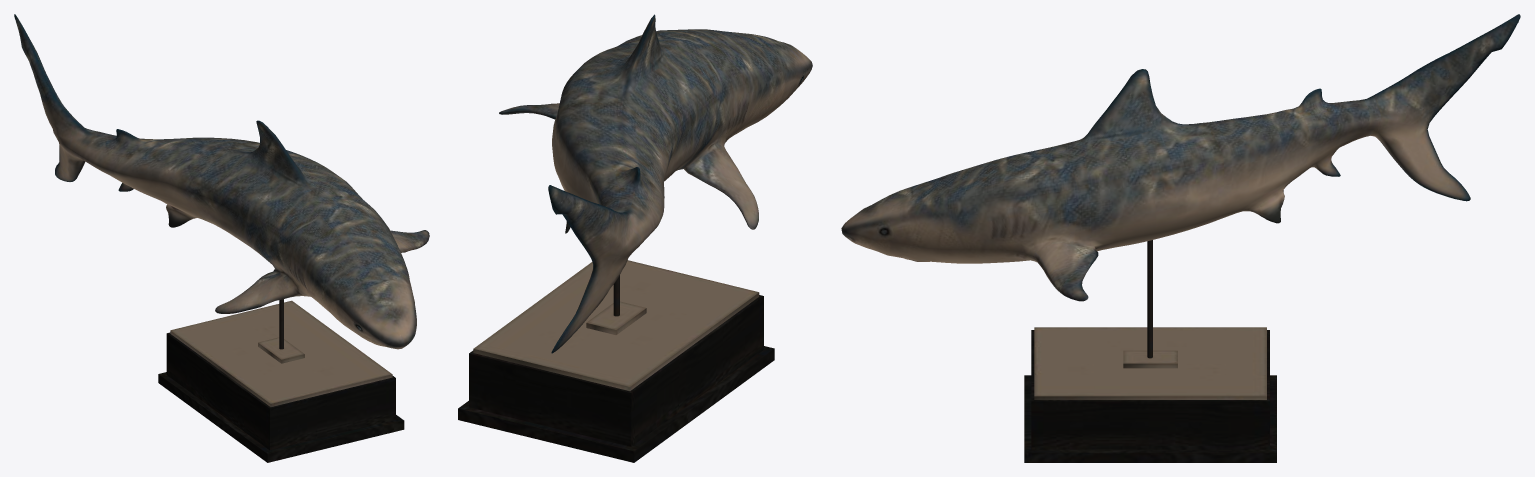
Rendered from bronze_shark_statue.glb.
The picture shows the model from 3 angles, left to right: view 1: azimuth 30°, elevation 25°; view 2: azimuth 150°, elevation 25°; view 3: azimuth 270°, elevation 25°; orthographic projection. The views are drawn at different scales.
Parts seen in each view (by area): view 1: bronze_shark_statue; view 2: bronze_shark_statue; view 3: bronze_shark_statue.
Part boxes in pixels (x1,y1,x2,y2): bronze_shark_statue: [14, 14, 429, 462]; bronze_shark_statue: [458, 14, 812, 462]; bronze_shark_statue: [841, 14, 1520, 462].
Size of the model in its own units: 0.352 by 0.4316 by 0.7598.
Materials: 1 (1 with a texture image).
